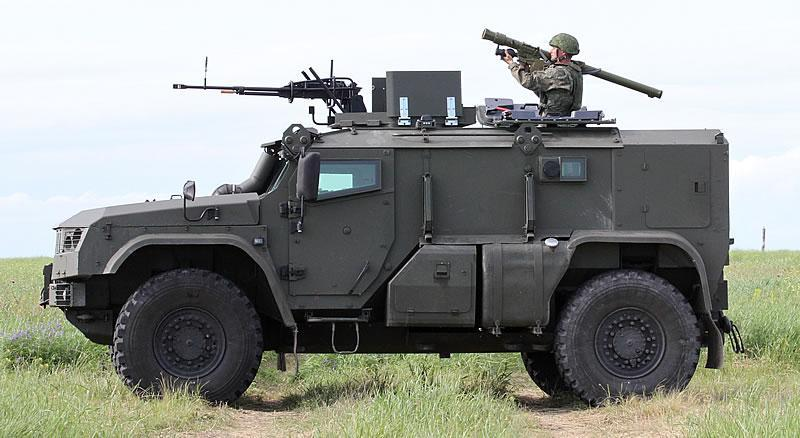armored_car: (33, 16, 752, 404)
person: (518, 29, 586, 114)
